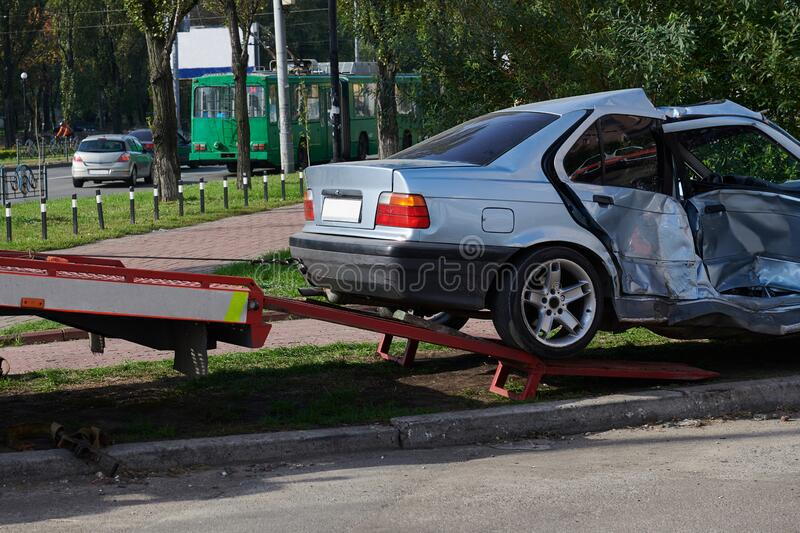RunningBoard-Dent: (612, 297, 750, 334)
doorouter-dent: (580, 185, 695, 299), (697, 191, 799, 299)
roof-dent: (545, 81, 786, 143)
